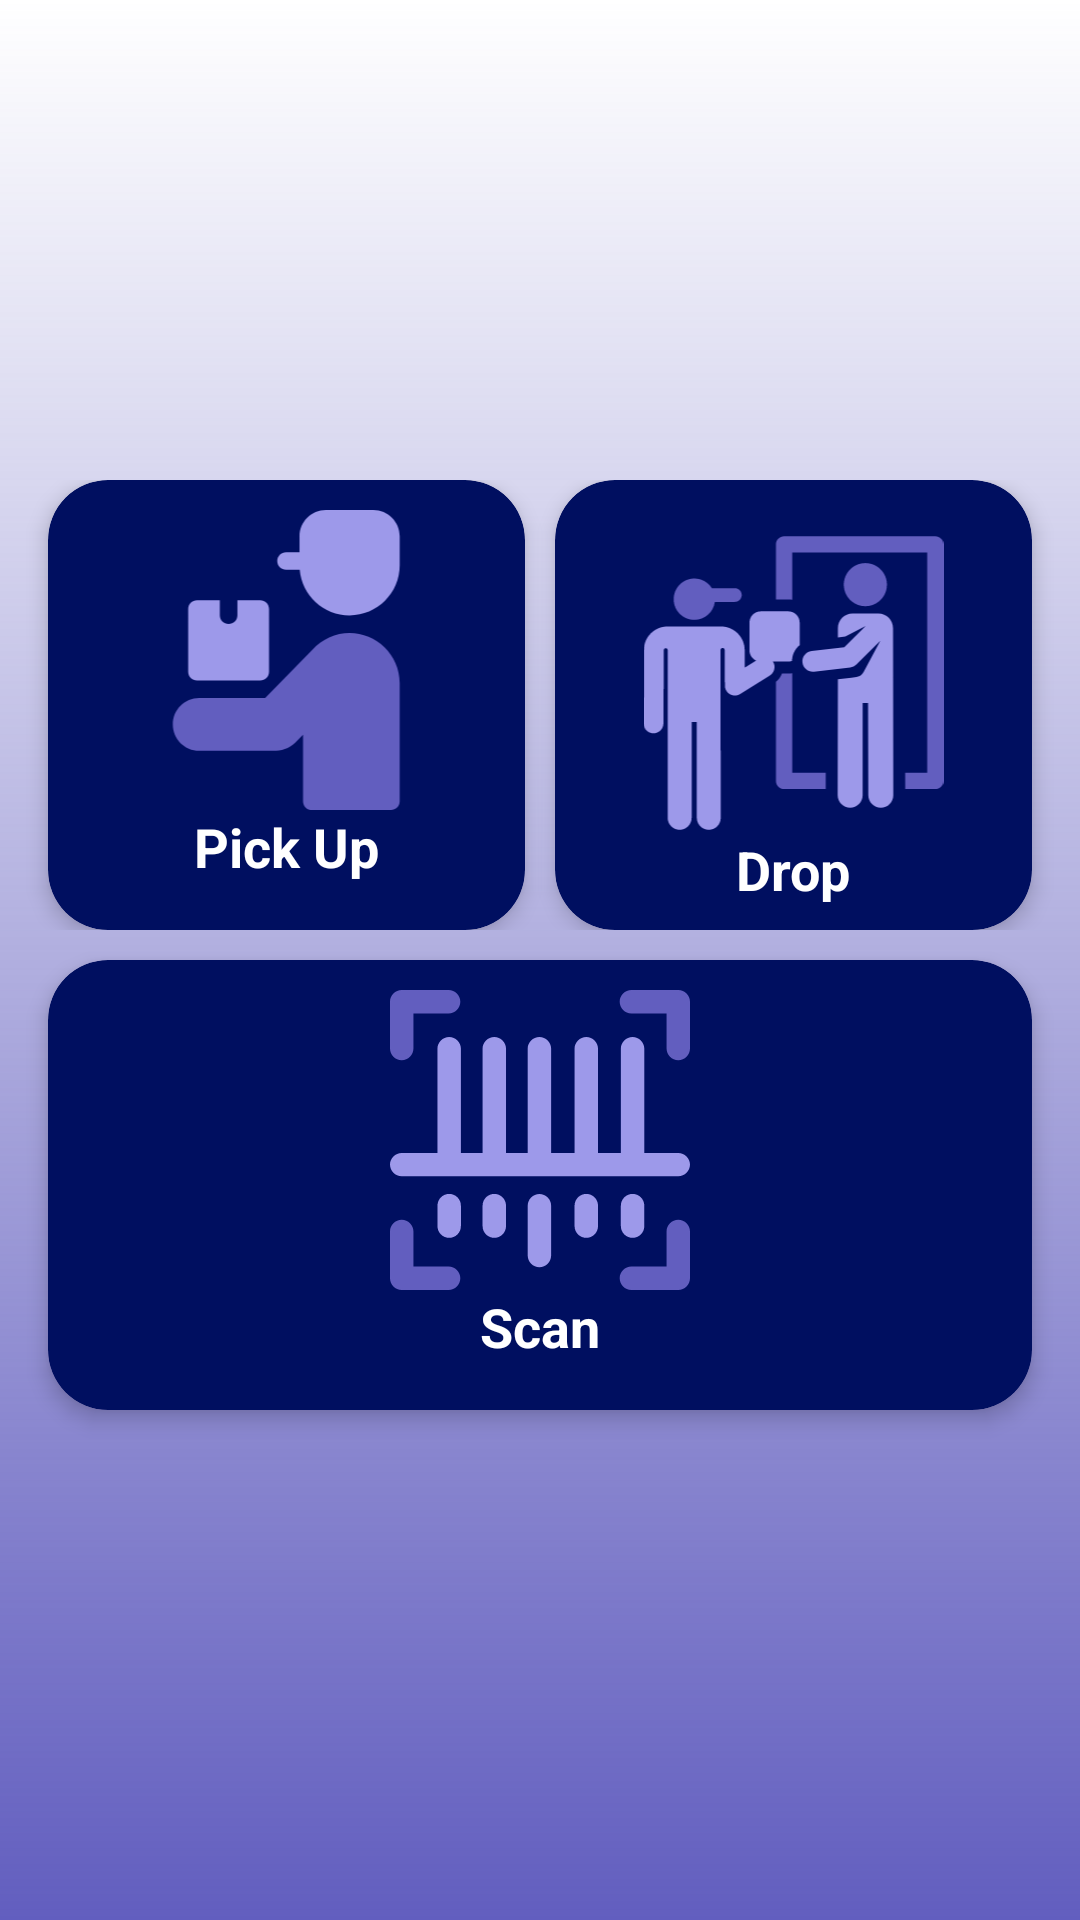

Locate icon controls on the screen. Image size 1080*1920, boxes as (x1, y1, x2, y2).
barcode: (390, 990, 690, 1290)
